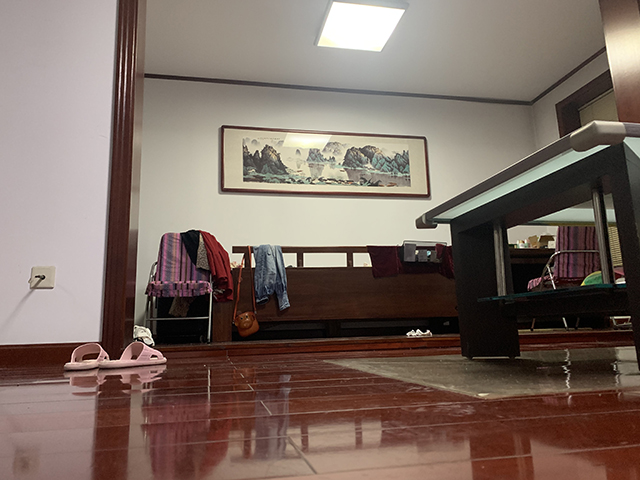bed: (210, 240, 458, 344)
slippers: (98, 340, 168, 370), (63, 340, 108, 370)
socks: (406, 327, 433, 338)
stool: (143, 229, 236, 345), (526, 223, 603, 333)
table: (414, 118, 640, 370)
